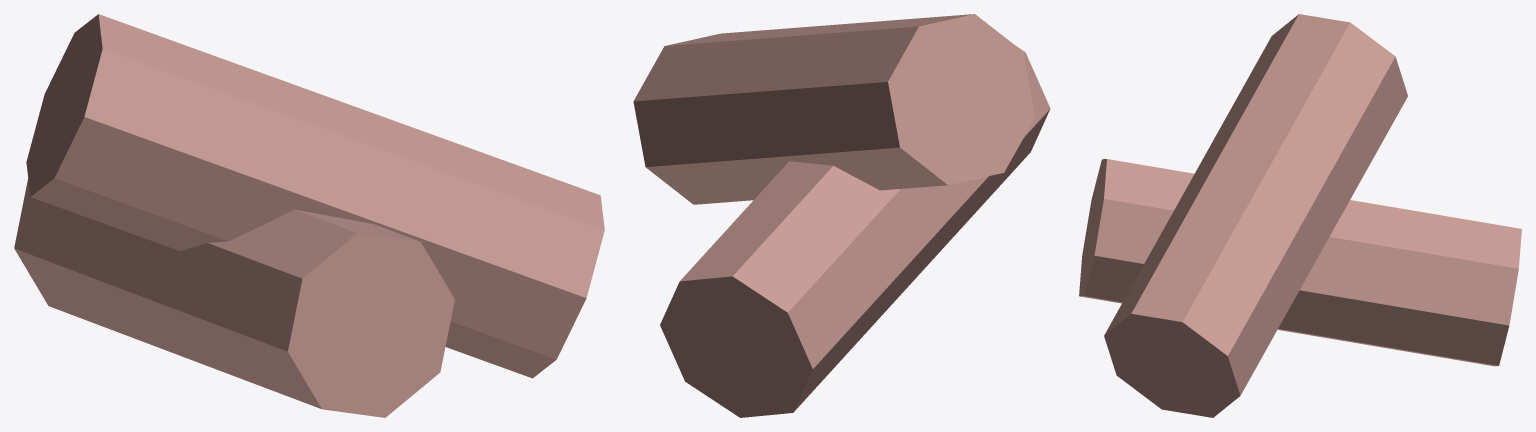
Rendered from beach_middle.glb.
3 views of the same model, side by side, from view 1: azimuth 30°, elevation 25°; view 2: azimuth 150°, elevation 25°; view 3: azimuth 270°, elevation 25° (orthographic). The views are drawn at different scales.
Visible parts, largest first — view 1: Cylinder.001, Cylinder; view 2: Cylinder.001, Cylinder; view 3: Cylinder.001, Cylinder.
Part boxes in pixels (bbox=[...]): Cylinder.001: bbox=[26, 14, 604, 378]; Cylinder: bbox=[14, 178, 454, 417]; Cylinder.001: bbox=[633, 14, 1035, 204]; Cylinder: bbox=[660, 45, 1050, 417]; Cylinder.001: bbox=[1104, 14, 1407, 417]; Cylinder: bbox=[1079, 159, 1521, 366].
Bounding box in the file's own units: 2.04 × 1.59 × 2.1.
